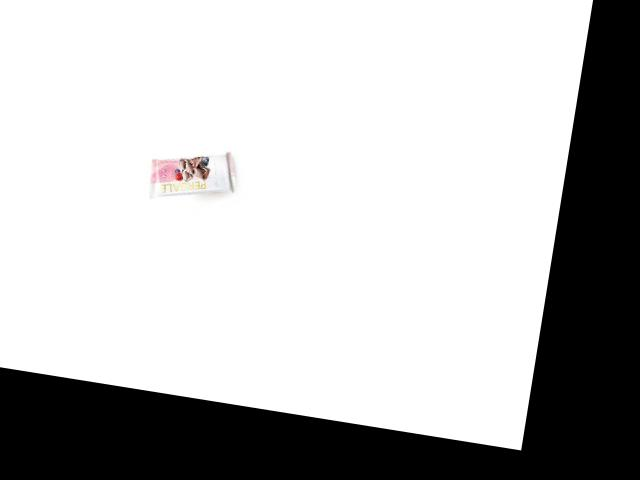chocolate: (146, 138, 238, 211)
